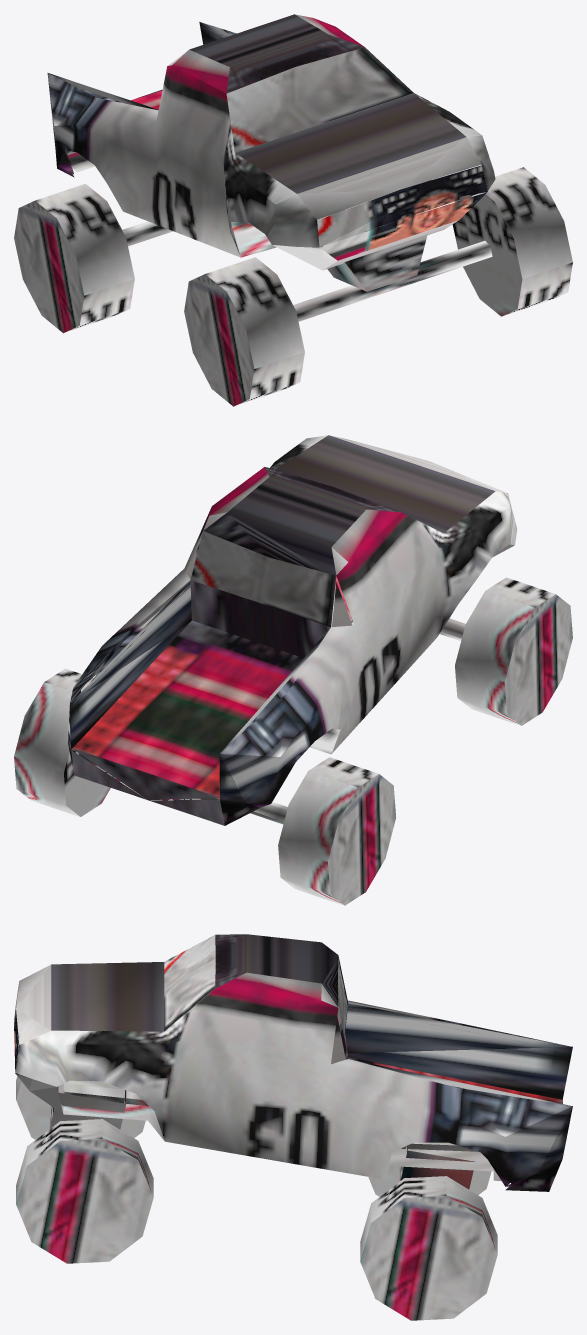
Rendered from icondel.ico.obj.
3 renders of one model, top to bottom at view 1: azimuth 30°, elevation 25°; view 2: azimuth 150°, elevation 25°; view 3: azimuth 270°, elevation 25°, orthographic.
Bounding box in the file's own units: 3.03 × 2.74 × 4.47.
